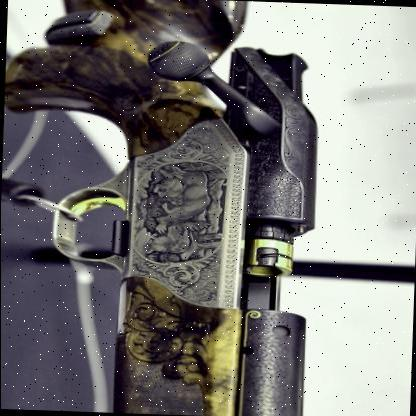rifle: (2, 0, 348, 416)
